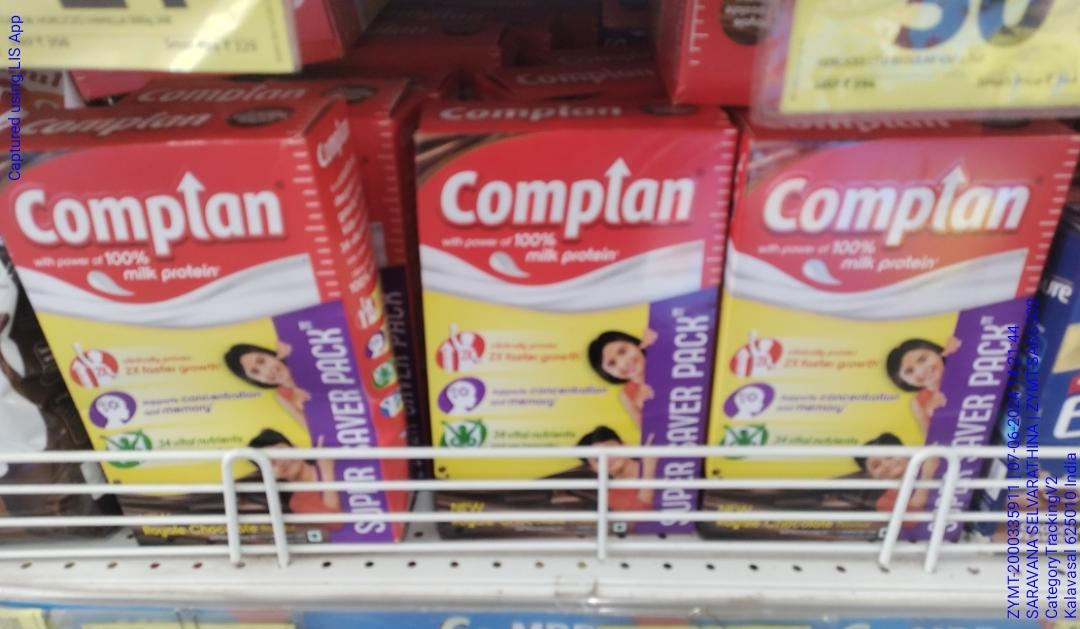COMPLAN_CHOCOLATE_1_KG_PACK: (730, 136, 1022, 551), (32, 126, 320, 546), (420, 130, 704, 535)
